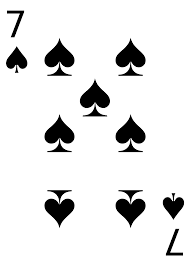seven of spades: (5, 6, 189, 261)
